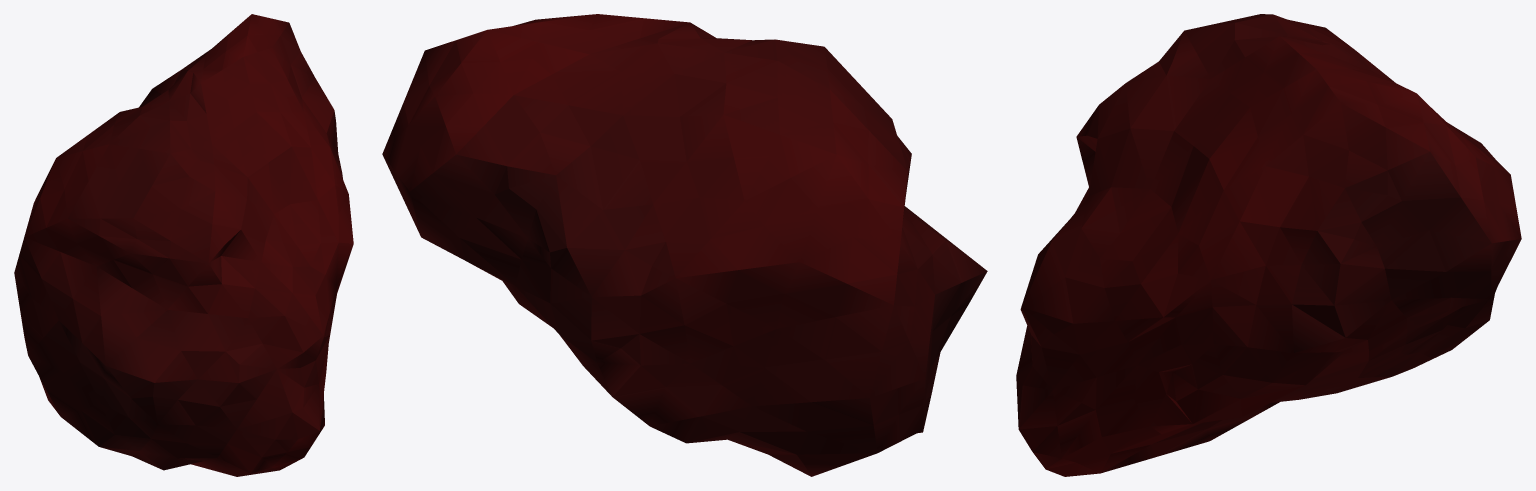
File: geology-rocks-asteroidhuge_v4.fbx
3 renders of one model, left to right at view 1: azimuth 30°, elevation 25°; view 2: azimuth 150°, elevation 25°; view 3: azimuth 270°, elevation 25°, orthographic. The views are drawn at different scales.
Parts seen in each view (by area): view 1: AsteroidHuge_v4; view 2: AsteroidHuge_v4; view 3: AsteroidHuge_v4.
Part boxes in pixels (left/top/right/bottom): AsteroidHuge_v4: left=14, top=14, right=353, bottom=476; AsteroidHuge_v4: left=382, top=14, right=987, bottom=476; AsteroidHuge_v4: left=1016, top=14, right=1521, bottom=476.
Bounding box in the file's own units: 1.87 × 1.82 × 1.83.
